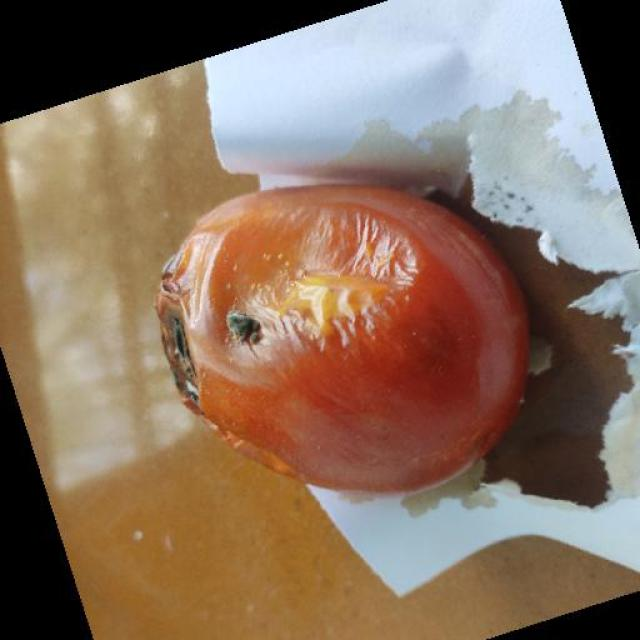Stale_tomato: (130, 176, 534, 524)
